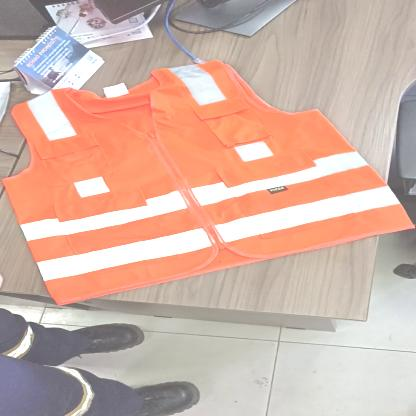colete: (1, 61, 415, 311)
